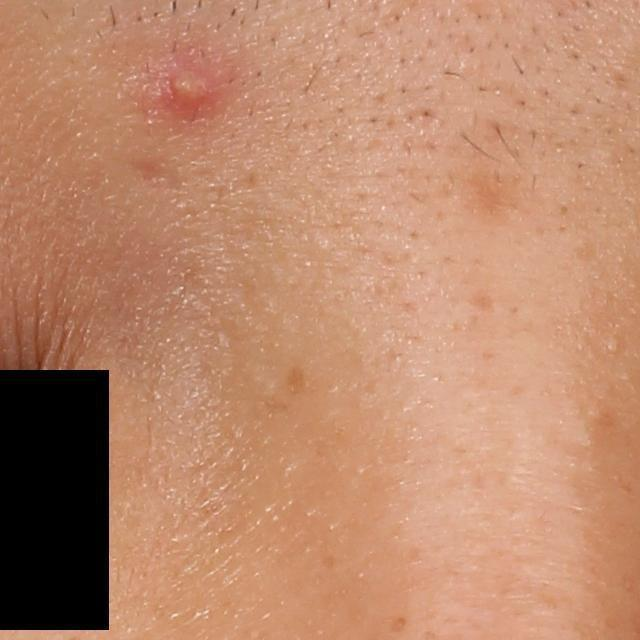comedo: (597, 336, 622, 362)
